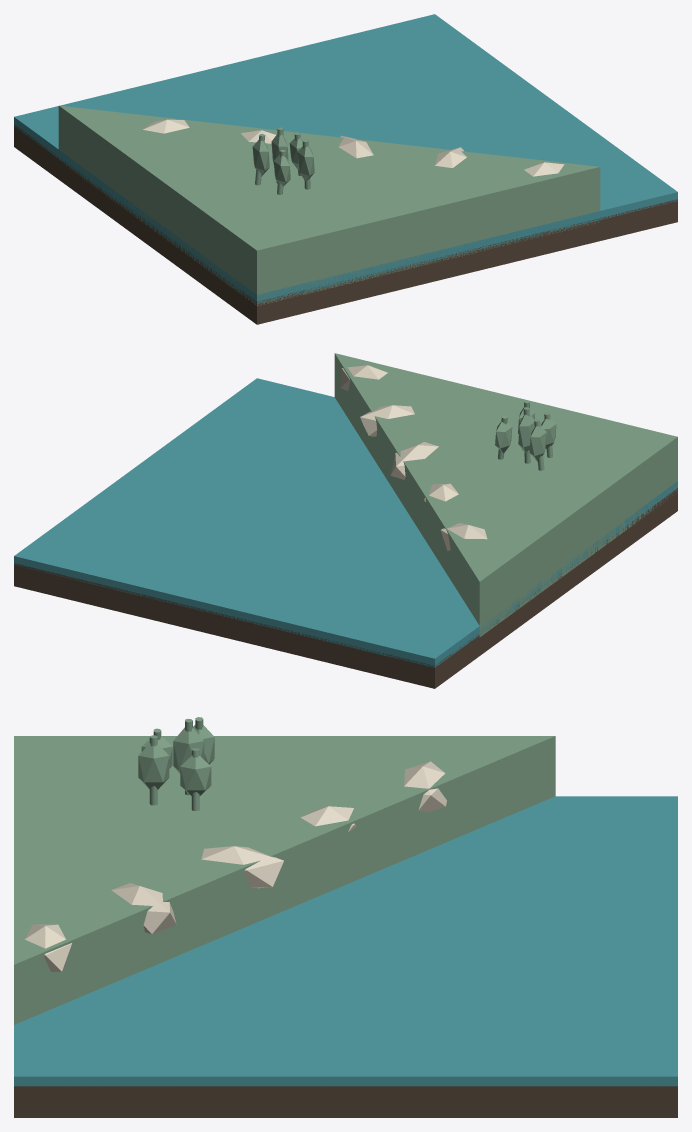
Rendered from bank_corner_outer.glb.
3 renders of one model, top to bottom at view 1: azimuth 30°, elevation 25°; view 2: azimuth 150°, elevation 25°; view 3: azimuth 270°, elevation 25°, orthographic. The views are drawn at different scales.
Parts seen in each view (by area): view 1: bank_corner_outer pine, bank_corner_outer water, bank_corner_outer soil, bank_corner_outer mist, bank_corner_outer leaf; view 2: bank_corner_outer water, bank_corner_outer pine, bank_corner_outer soil, bank_corner_outer mist, bank_corner_outer leaf; view 3: bank_corner_outer water, bank_corner_outer pine, bank_corner_outer soil, bank_corner_outer mist, bank_corner_outer leaf.
Part boxes in pixels (bbox=[...]): bank_corner_outer pine: bbox=[58, 105, 600, 305]; bank_corner_outer water: bbox=[14, 14, 677, 303]; bank_corner_outer soil: bbox=[14, 124, 677, 324]; bank_corner_outer mist: bbox=[143, 119, 564, 176]; bank_corner_outer leaf: bbox=[252, 134, 314, 186]; bank_corner_outer water: bbox=[14, 378, 677, 667]; bank_corner_outer pine: bbox=[334, 353, 677, 637]; bank_corner_outer soil: bbox=[14, 488, 677, 688]; bank_corner_outer mist: bbox=[340, 365, 487, 551]; bank_corner_outer leaf: bbox=[495, 407, 556, 461]; bank_corner_outer water: bbox=[14, 796, 677, 1086]; bank_corner_outer pine: bbox=[14, 717, 555, 1024]; bank_corner_outer soil: bbox=[14, 1086, 677, 1117]; bank_corner_outer mist: bbox=[25, 761, 446, 971]; bank_corner_outer leaf: bbox=[138, 725, 214, 795].
Bounding box in the file's own units: 0.95 × 0.2763 × 0.95.
